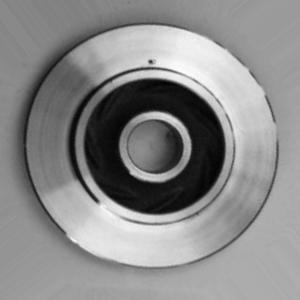defect: (139, 47, 162, 79)
